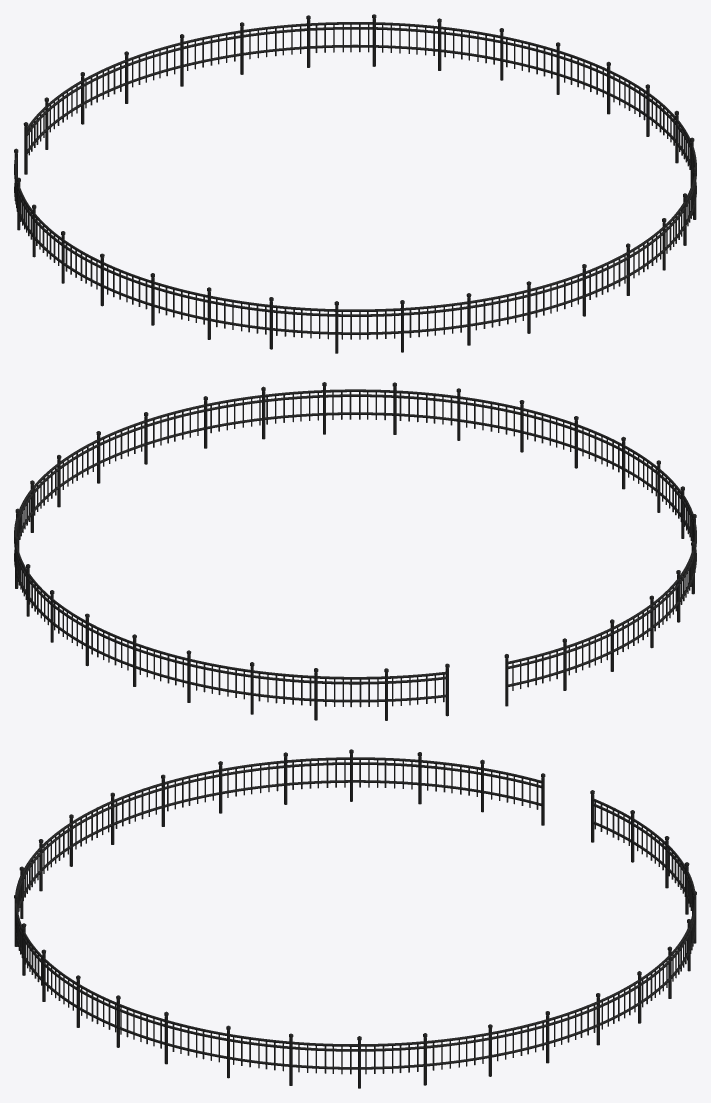
The model's file is FieldFence.obj.
The picture shows the model from 3 angles, top to bottom: view 1: azimuth 30°, elevation 25°; view 2: azimuth 150°, elevation 25°; view 3: azimuth 270°, elevation 25°; orthographic projection.
Parts seen in each view (by area): view 1: objfence.246; view 2: objfence.246; view 3: objfence.246.
Boxes of the visible parts, bbox=[...] form: objfence.246: bbox=[14, 14, 696, 353]; objfence.246: bbox=[14, 382, 696, 720]; objfence.246: bbox=[14, 749, 696, 1088].
Bounding box in the file's own units: 4.04 × 0.336 × 4.04.
Materials: 1 (1 with a texture image).
